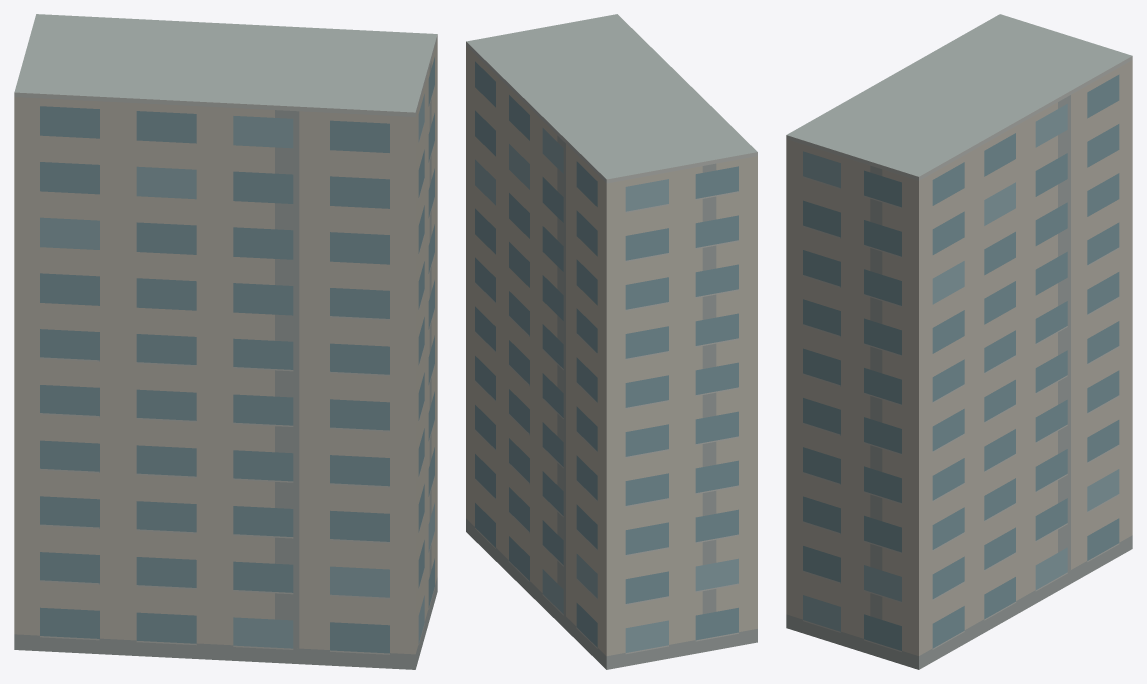
The model's file is residential-653b47d0-cf11-4b8a-9c05-7505da1bcf3e.glb.
3 views of the same model, side by side, from view 1: azimuth 30°, elevation 25°; view 2: azimuth 150°, elevation 25°; view 3: azimuth 270°, elevation 25° (orthographic). The views are drawn at different scales.
Parts seen in each view (by area): view 1: residential-653b47d0-cf11-4b8a-9c05-7505da1bcf3e.tmp; view 2: residential-653b47d0-cf11-4b8a-9c05-7505da1bcf3e.tmp; view 3: residential-653b47d0-cf11-4b8a-9c05-7505da1bcf3e.tmp.
Part boxes in pixels (box(x1,y1,x2,y2)): residential-653b47d0-cf11-4b8a-9c05-7505da1bcf3e.tmp: box(14, 14, 437, 669); residential-653b47d0-cf11-4b8a-9c05-7505da1bcf3e.tmp: box(466, 14, 757, 669); residential-653b47d0-cf11-4b8a-9c05-7505da1bcf3e.tmp: box(786, 14, 1132, 669).
Bounding box in the file's own units: 21.27 × 30 × 19.11.
